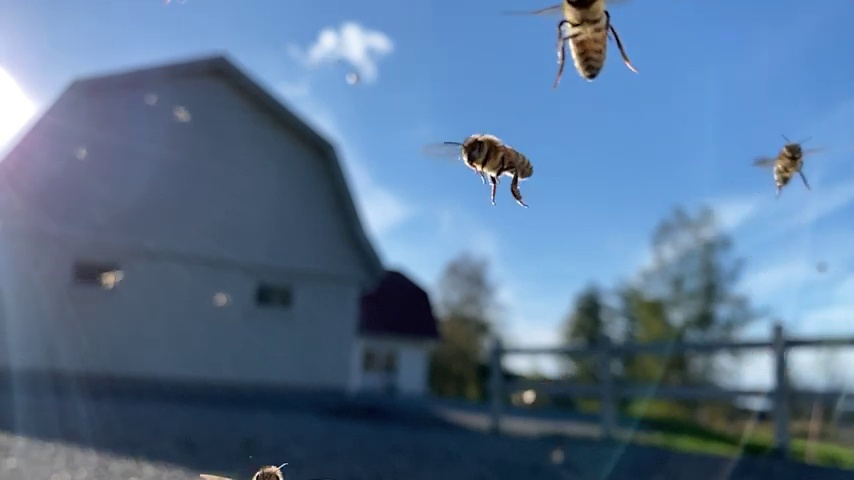insect: (511, 1, 639, 90), (434, 133, 537, 208), (749, 134, 827, 196)
